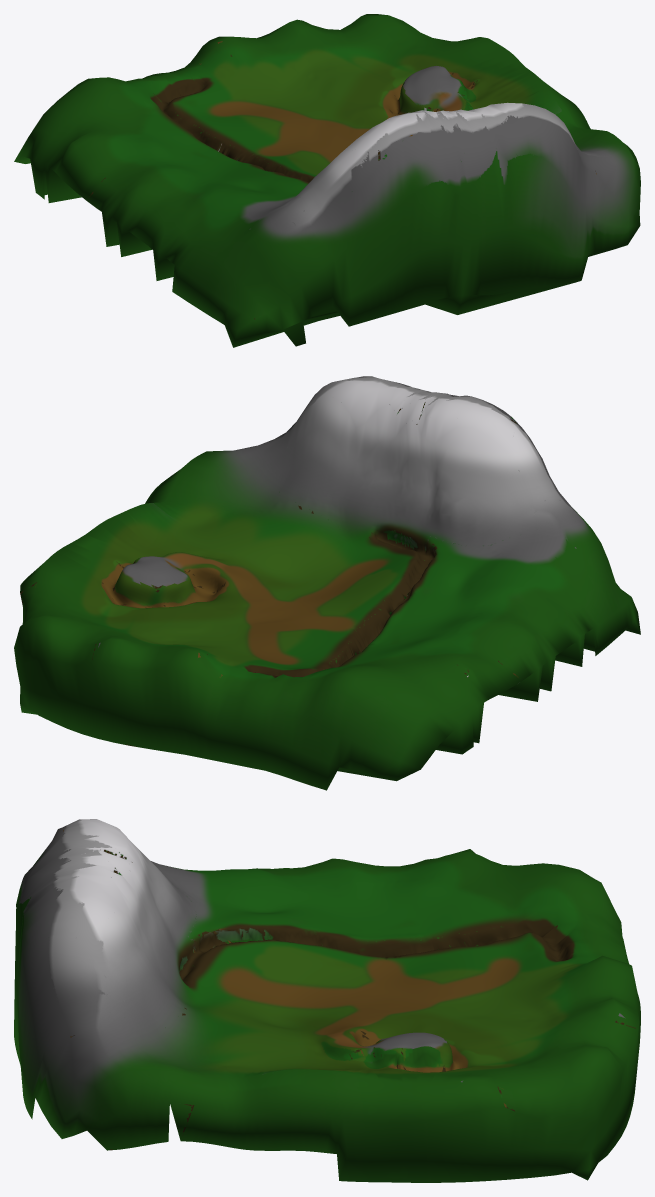
Rendered from Level_1.fbx.
3 views of the same model, one above another, from view 1: azimuth 30°, elevation 25°; view 2: azimuth 150°, elevation 25°; view 3: azimuth 270°, elevation 25° (orthographic). The views are drawn at different scales.
Visible parts, largest first — view 1: Level_1; view 2: Level_1; view 3: Level_1.
Boxes of the visible parts, bbox=[...] form: Level_1: bbox=[14, 14, 640, 347]; Level_1: bbox=[14, 376, 640, 790]; Level_1: bbox=[14, 819, 640, 1182].
Bounding box in the file's own units: 44277 × 18463 × 45479.
Materials: 1 (1 with a texture image).
